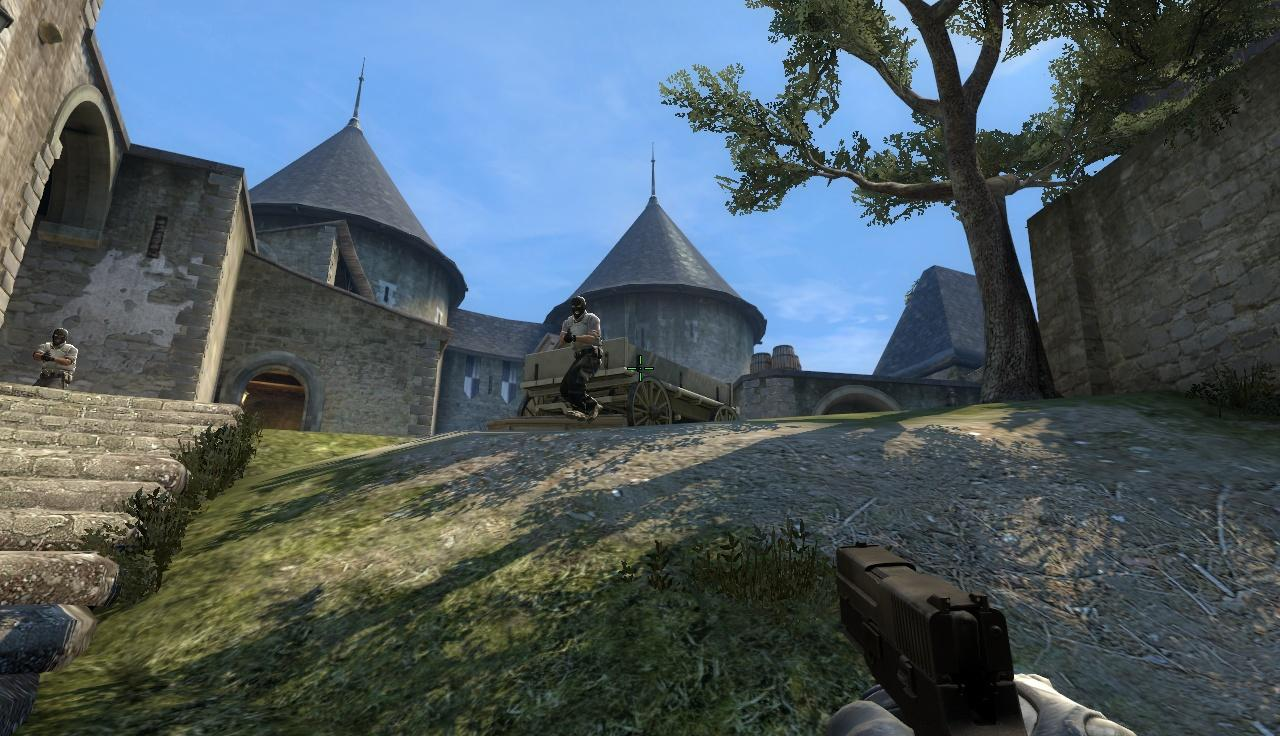pistol: (833, 537, 1038, 736)
tt: (563, 296, 600, 420), (33, 328, 77, 390)
tthead: (570, 296, 585, 317), (52, 329, 68, 346)
